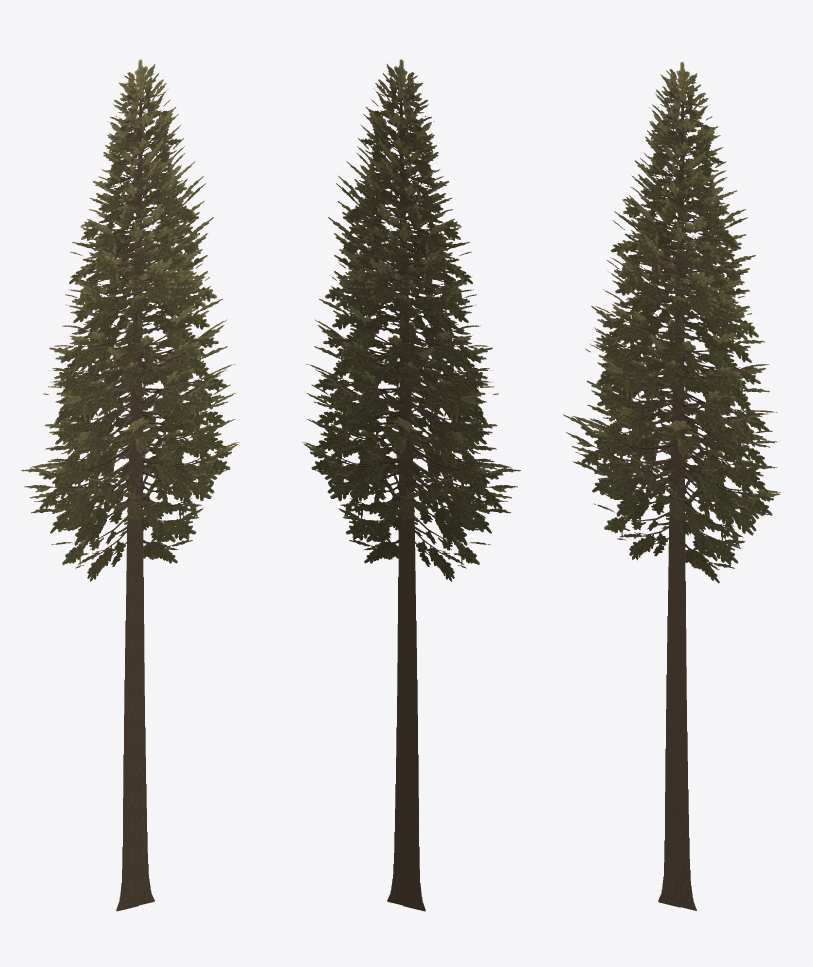
File: fir_giant_b_lod4_billboard.gltf
The picture shows the model from 3 angles, left to right: view 1: azimuth 30°, elevation 25°; view 2: azimuth 150°, elevation 25°; view 3: azimuth 330°, elevation 25°; orthographic projection.
Parts seen in each view (by area): view 1: fir_giant_b_LOD4; view 2: fir_giant_b_LOD4; view 3: fir_giant_b_LOD4.
Part boxes in pixels (bbox=[...]): fir_giant_b_LOD4: bbox=[21, 59, 239, 911]; fir_giant_b_LOD4: bbox=[302, 59, 520, 911]; fir_giant_b_LOD4: bbox=[563, 61, 780, 910].
Size of the model in its own units: 13.36 by 46.37 by 0.
Materials: 1 (1 with a texture image).
